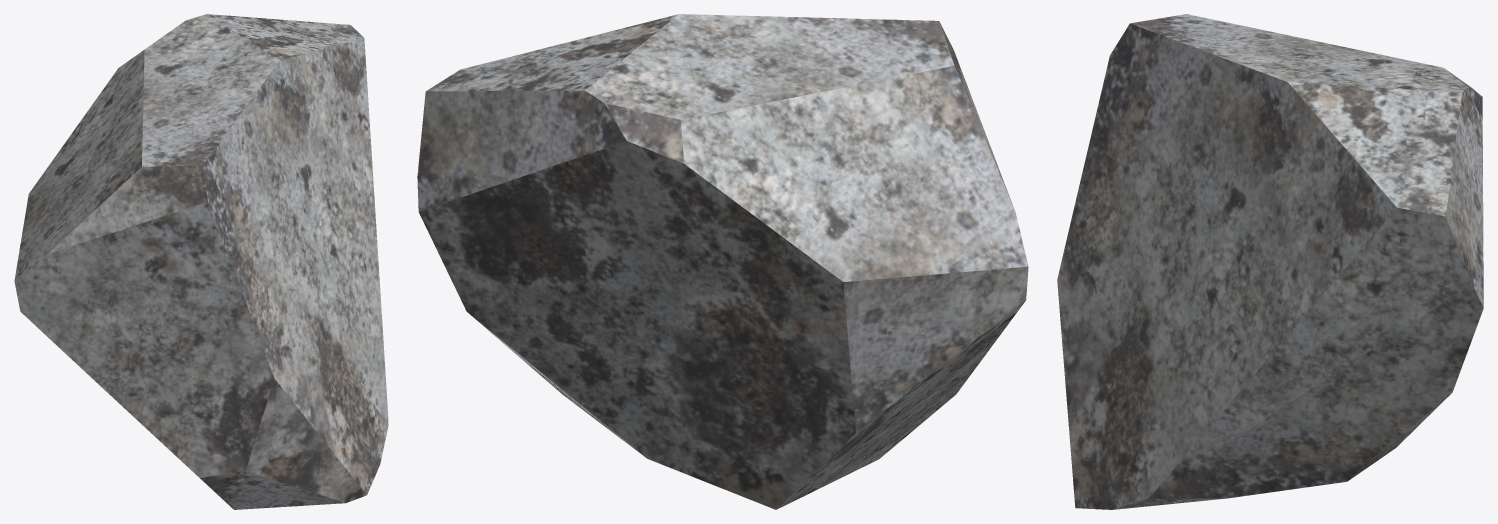
File: Asteroid_Large_001_02_002_03_025.fbx
3 views of the same model, side by side, from view 1: azimuth 30°, elevation 25°; view 2: azimuth 150°, elevation 25°; view 3: azimuth 270°, elevation 25° (orthographic). The views are drawn at different scales.
Visible parts, largest first — view 1: Asteroid_Large_001_02_002_03_025; view 2: Asteroid_Large_001_02_002_03_025; view 3: Asteroid_Large_001_02_002_03_025.
Boxes of the visible parts, bbox=[...] form: Asteroid_Large_001_02_002_03_025: bbox=[14, 14, 388, 509]; Asteroid_Large_001_02_002_03_025: bbox=[417, 14, 1028, 509]; Asteroid_Large_001_02_002_03_025: bbox=[1057, 14, 1483, 509].
Bounding box in the file's own units: 12.95 × 11.38 × 9.91.
